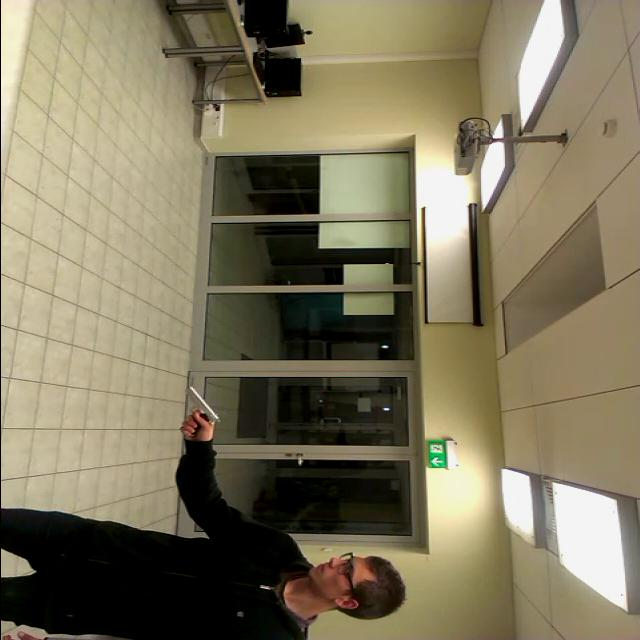handgun: (165, 374, 236, 438)
